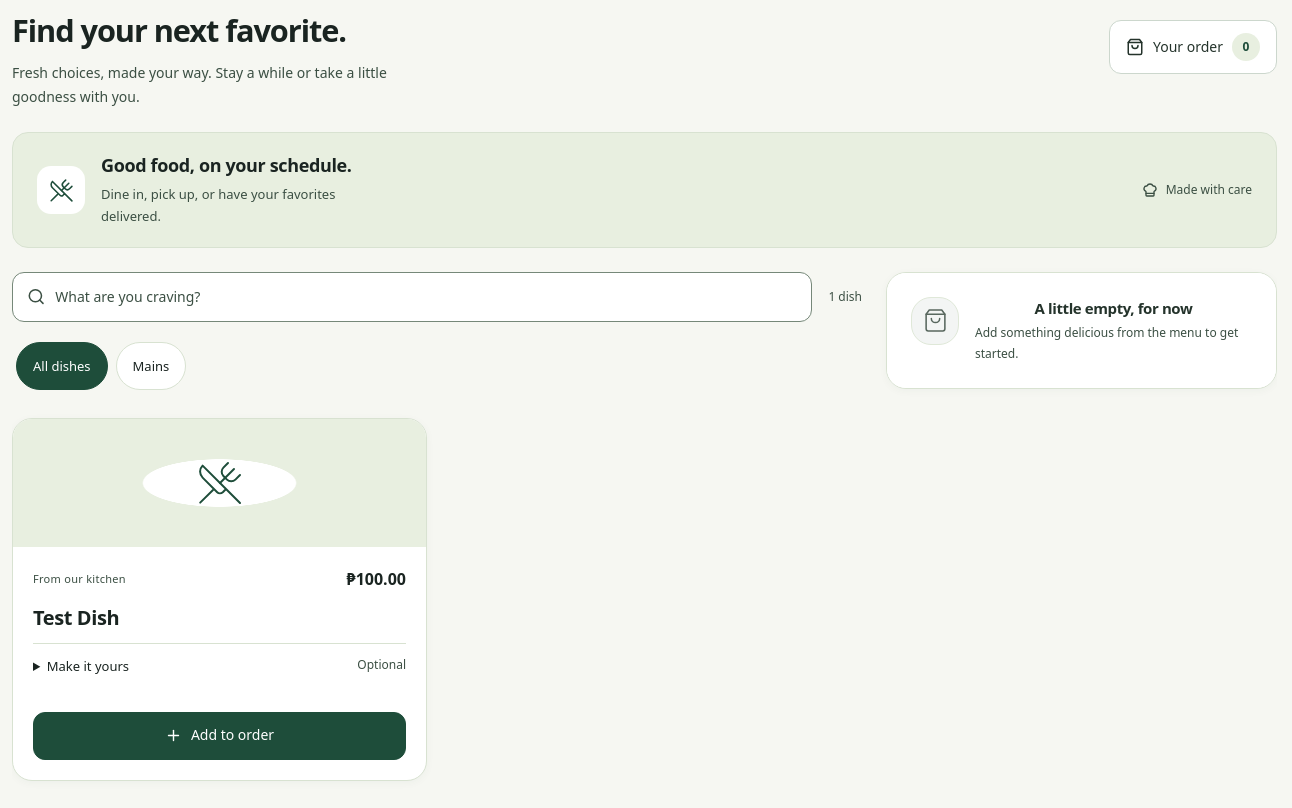
Test case: ignores damaged saved data and works when browser storage is unavailable
This screenshot has width=1292, height=808.
Click the button "Add to order".
click(220, 736)  # box top-left (33, 712), bottom-right (406, 760)
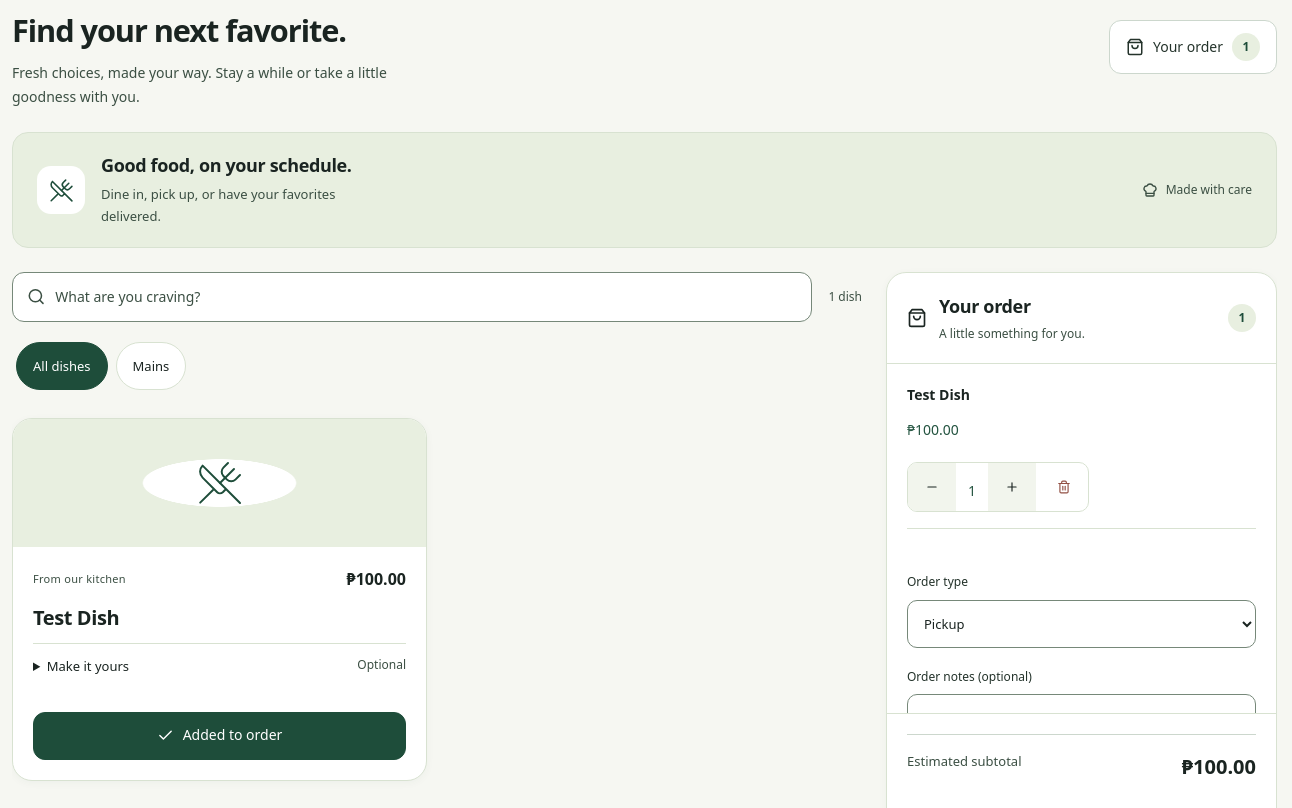
Result: the text named "Quantity: 1" is shown at top-left (968, 481), bottom-right (976, 500)
